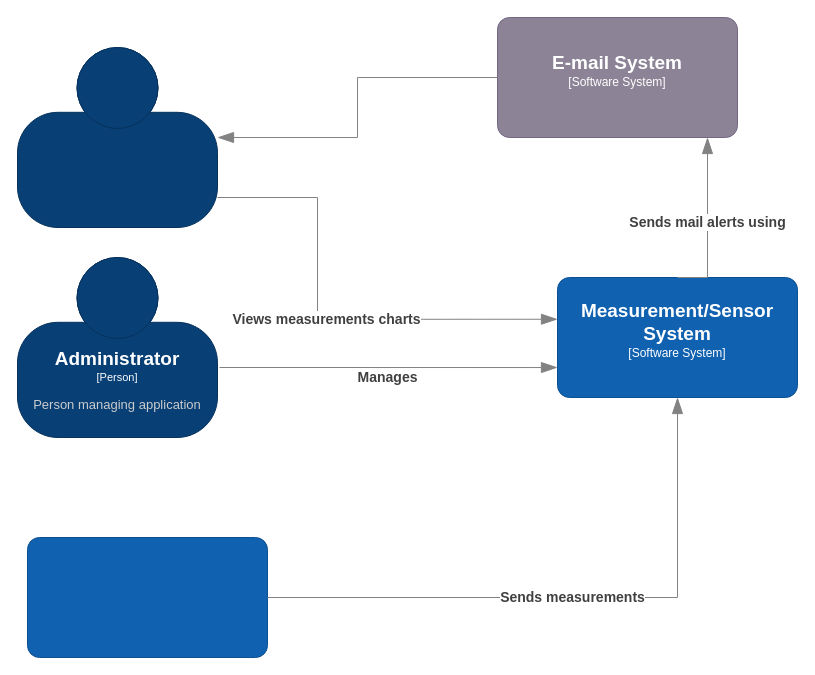
Some shapes in this 815 by 675 pixel diagram are drawn without their labels. The shapes that lost their labels are listed below. From the top down, each one's box as (x1, y1, x2, y2) in pixels, then its label:
(16, 46, 218, 228): Analyst User [Person] Observer of sensors data
(26, 536, 268, 658): Sensor [Device] Measure environmental parameters and send measurements to App
